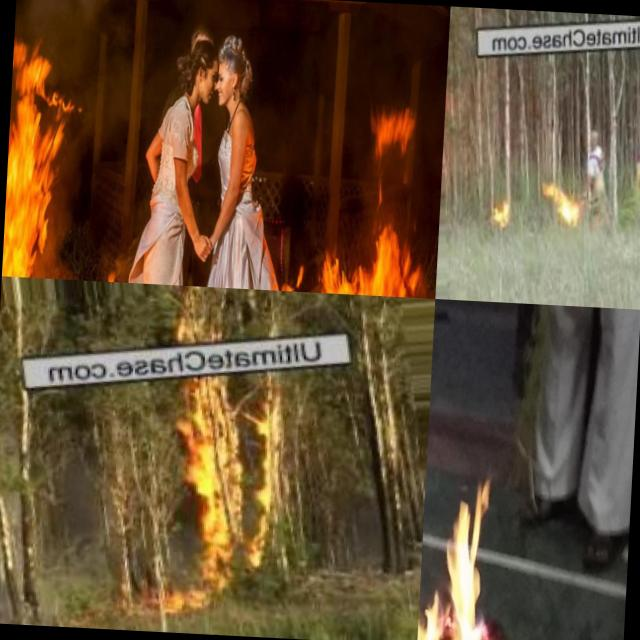fire: (417, 478, 550, 640), (180, 386, 282, 572), (2, 27, 76, 278), (279, 219, 439, 299), (362, 84, 421, 227), (540, 178, 584, 225), (490, 194, 515, 231)
